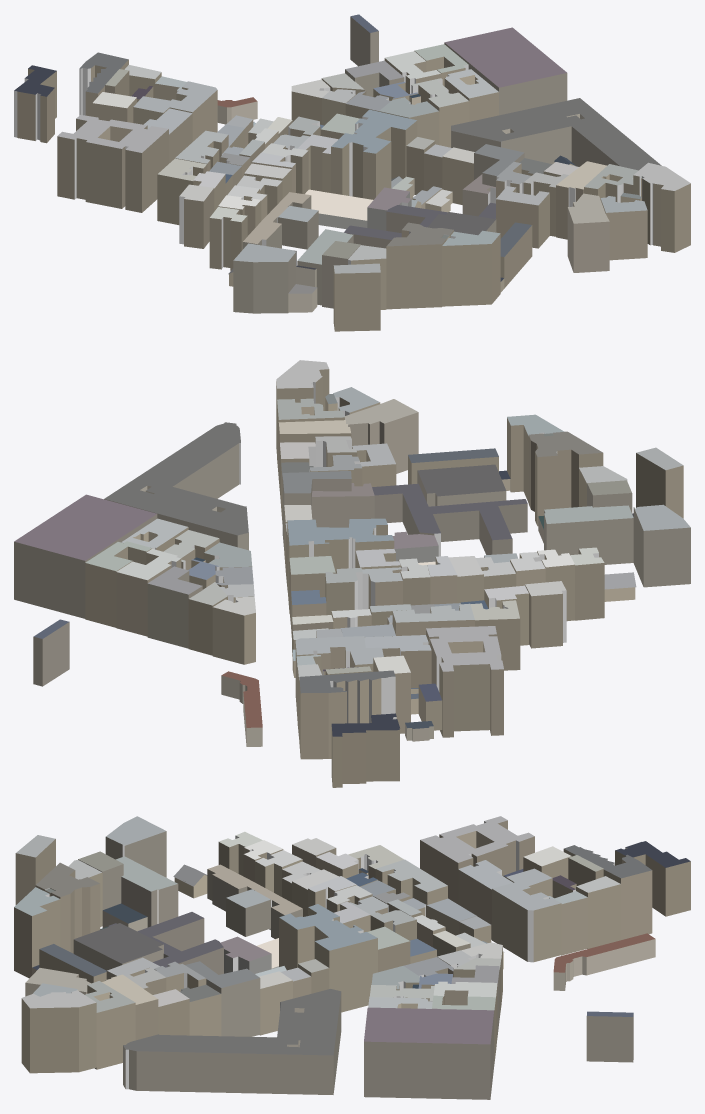
3 views of the same model, one above another, from view 1: azimuth 30°, elevation 25°; view 2: azimuth 150°, elevation 25°; view 3: azimuth 270°, elevation 25° (orthographic). The views are drawn at different scales.
Parts seen in each view (by area): view 1: tuile; view 2: tuile; view 3: tuile.
Part boxes in pixels (bbox=[...]): tuile: bbox=[14, 14, 690, 331]; tuile: bbox=[14, 360, 690, 787]; tuile: bbox=[14, 816, 690, 1099].
Size of the model in its own units: 217 by 35.42 by 268.
